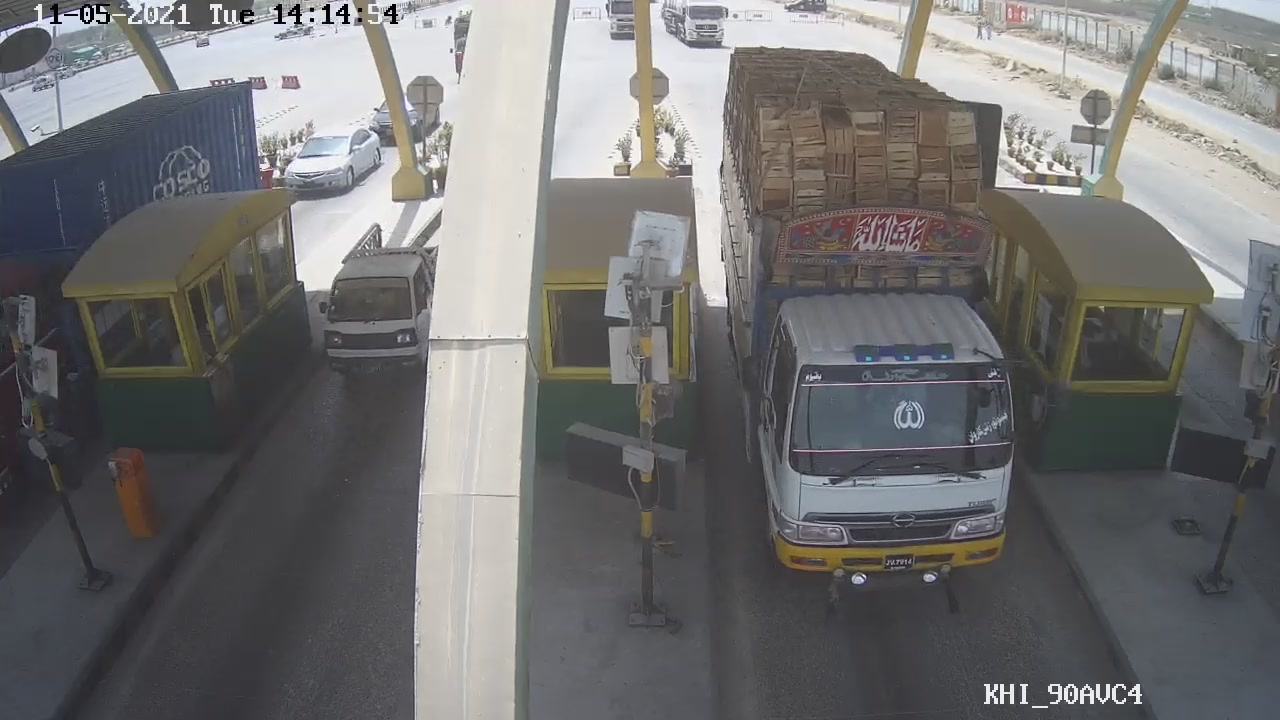F5: (710, 49, 1045, 617)
